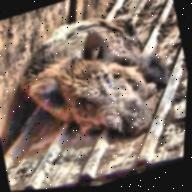boar: (1, 0, 186, 170)
